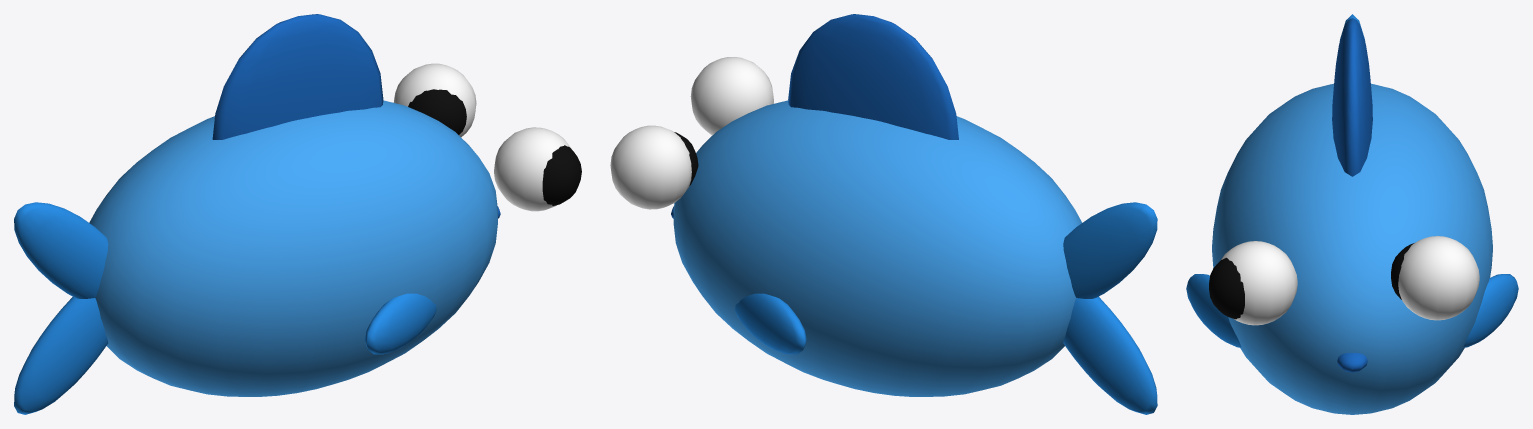
File: ikan_kecil.glb
3 renders of one model, left to right at view 1: azimuth 30°, elevation 25°; view 2: azimuth 150°, elevation 25°; view 3: azimuth 270°, elevation 25°, orthographic.
Size of the model in its own units: 1 by 0.678 by 0.5627.
